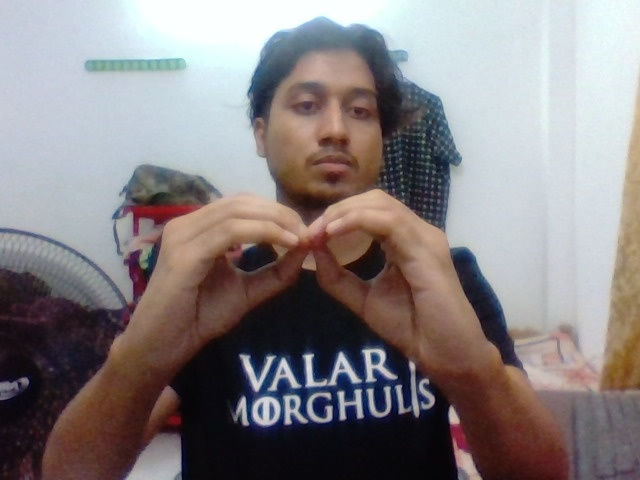B: (124, 163, 491, 380)
